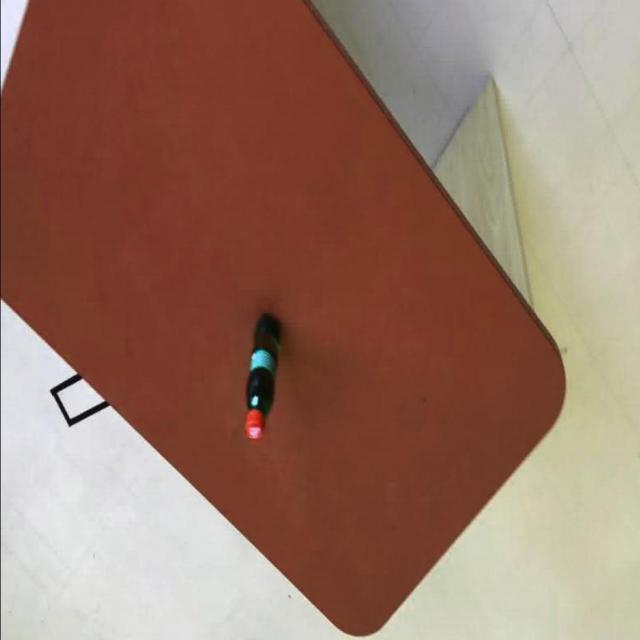Guarana: (0, 0, 569, 636), (244, 310, 283, 440)
